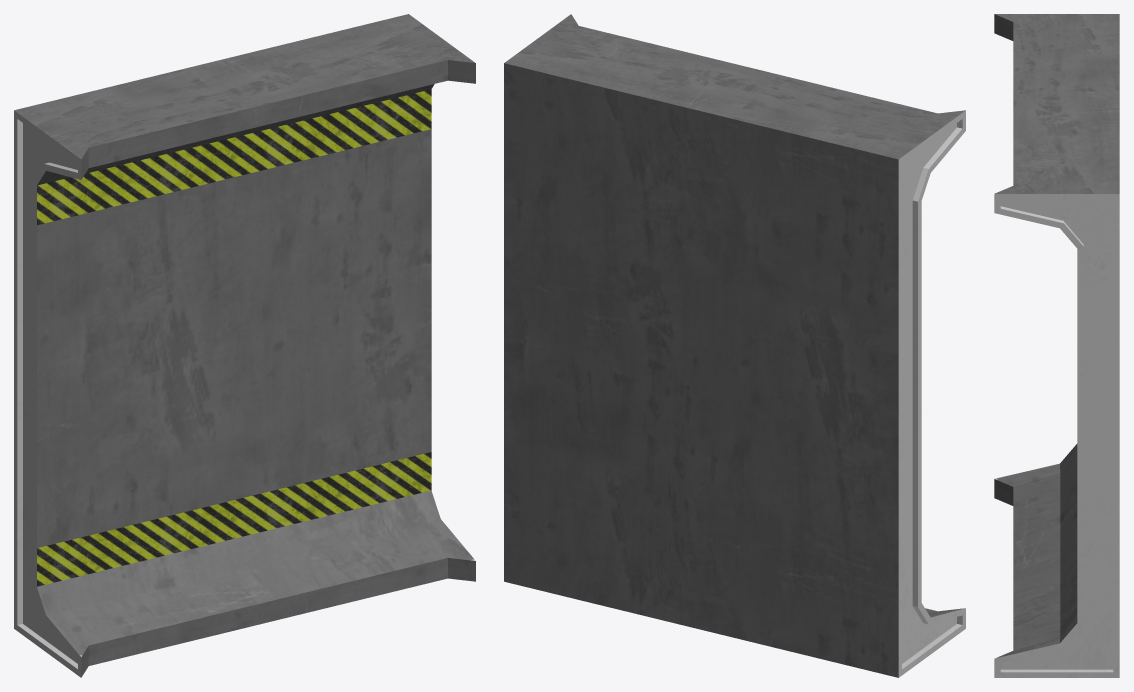
Rendered from Obstacle L.fbx.
3 renders of one model, left to right at view 1: azimuth 30°, elevation 25°; view 2: azimuth 150°, elevation 25°; view 3: azimuth 270°, elevation 25°, orthographic. The views are drawn at different scales.
Visible parts, largest first — view 1: Cube; view 2: Cube; view 3: Cube.
Boxes of the visible parts, x1,y1,x2,y2 form: Cube: [14, 14, 475, 677]; Cube: [504, 14, 965, 677]; Cube: [994, 14, 1119, 677].
Size of the model in its own units: 200 by 251 by 58.99.
Materials: 1 (1 with a texture image).
